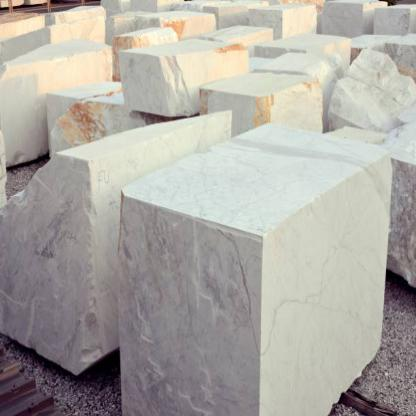Metamorphic_Marble: (114, 117, 416, 415), (7, 99, 111, 392), (110, 41, 258, 112)
